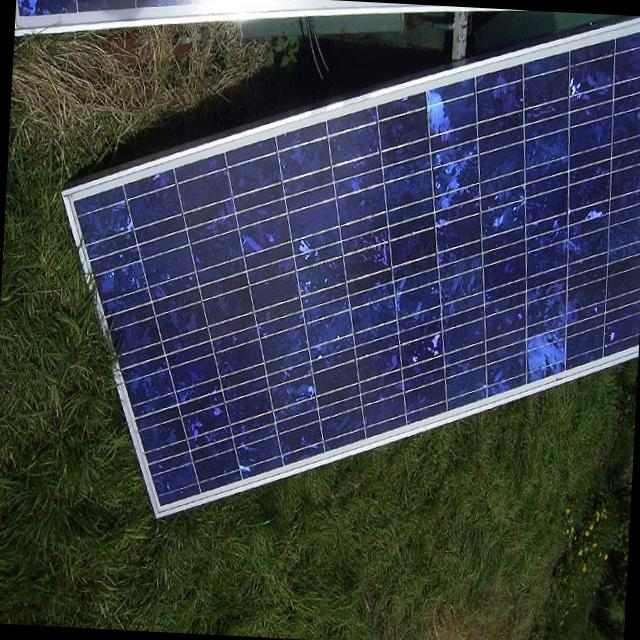no faulty: (62, 28, 639, 500)
